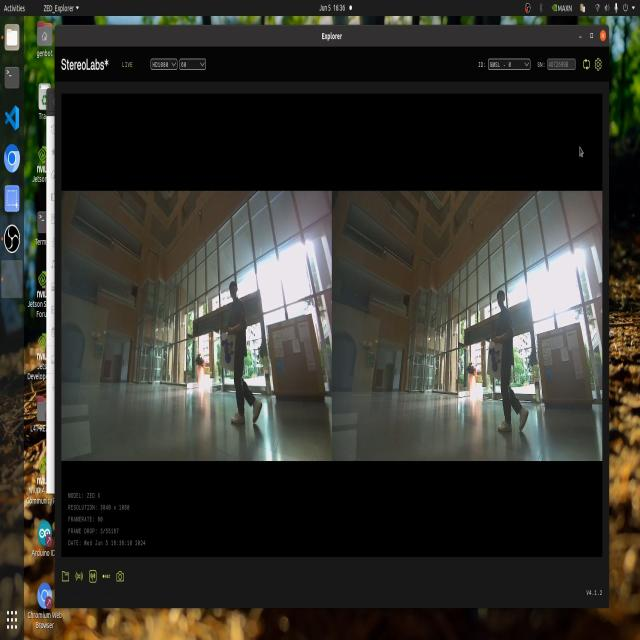blue: (220, 337, 241, 367), (488, 348, 503, 381)
